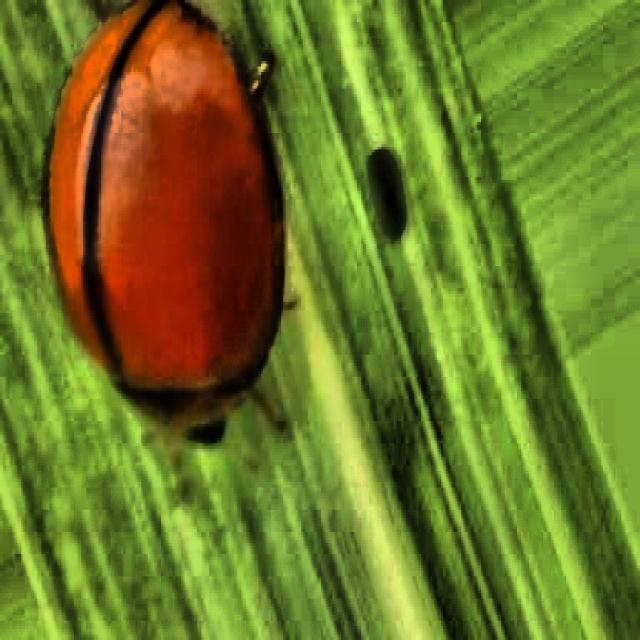Ladybug: (3, 3, 345, 526)
